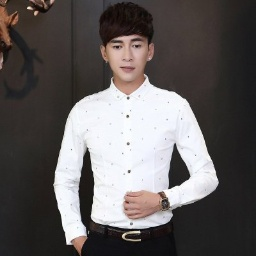face: (98, 2, 155, 82)
